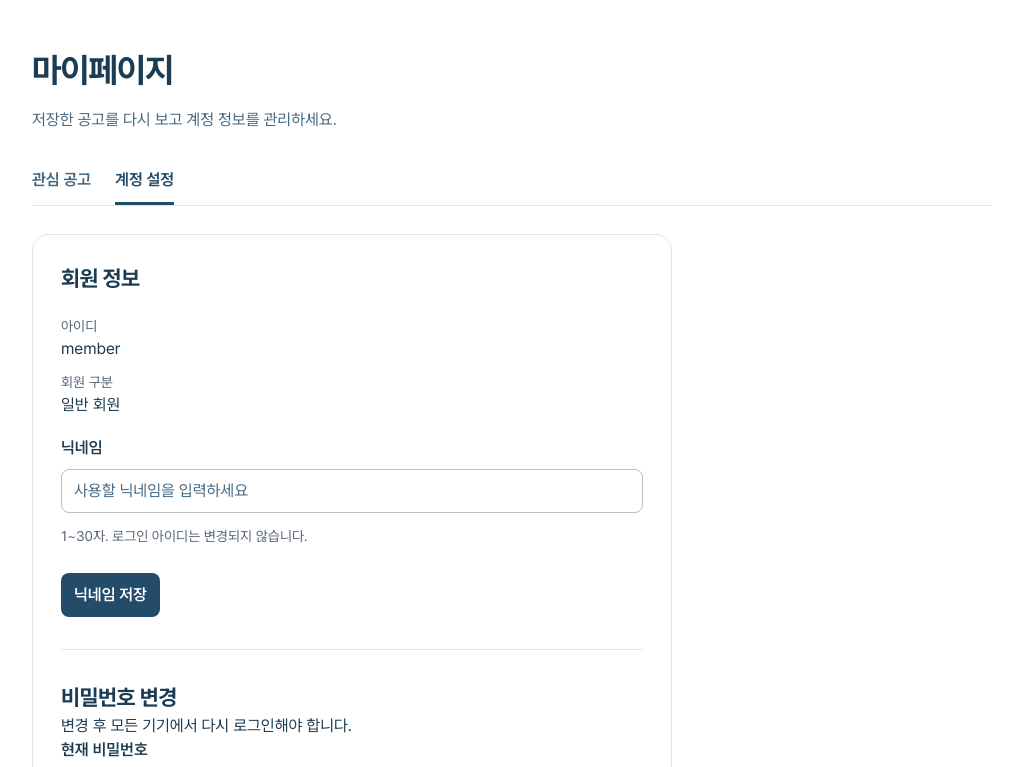
it: 닉네임 저장 실패 후 입력을 보존하고 같은 화면에서 재시도한다
The width and height of the screenshot is (1024, 767).
Type "남길 이름" into the field with id "nickname" at coordinates (352, 491), box [61, 469, 643, 513]
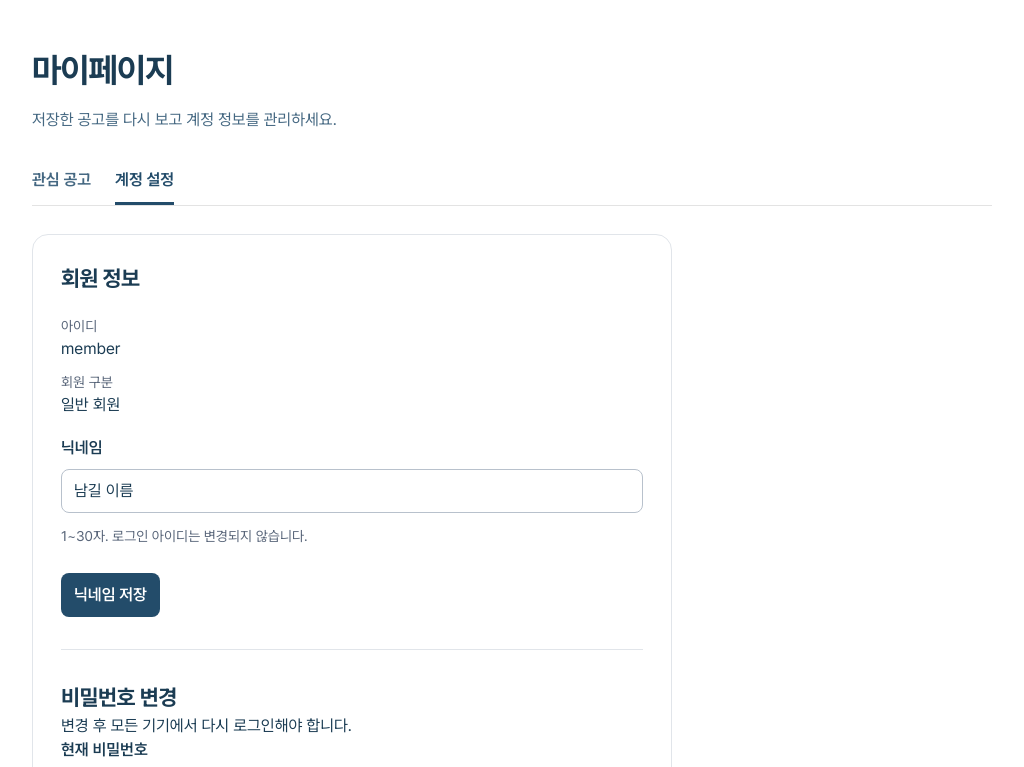
Submit the form with test id "nickname-form", box [61, 438, 643, 617]
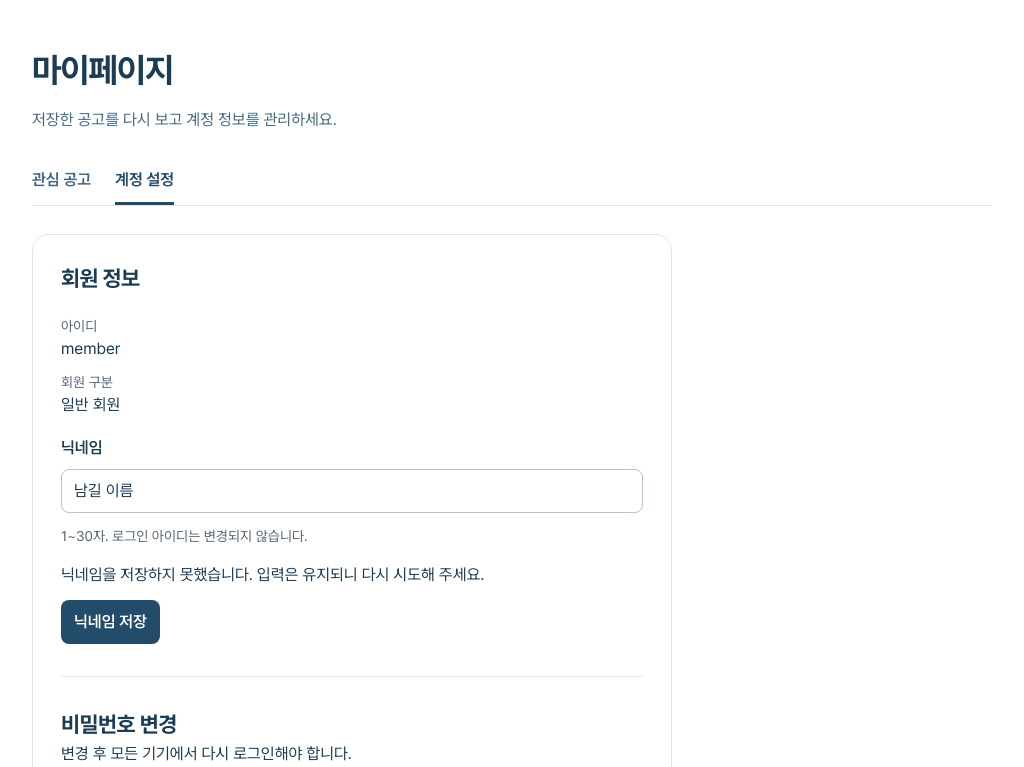
Result: the text "다시 시도" is shown at [61, 565, 484, 584]
Submit the form with test id "nickname-form", box [61, 438, 643, 644]
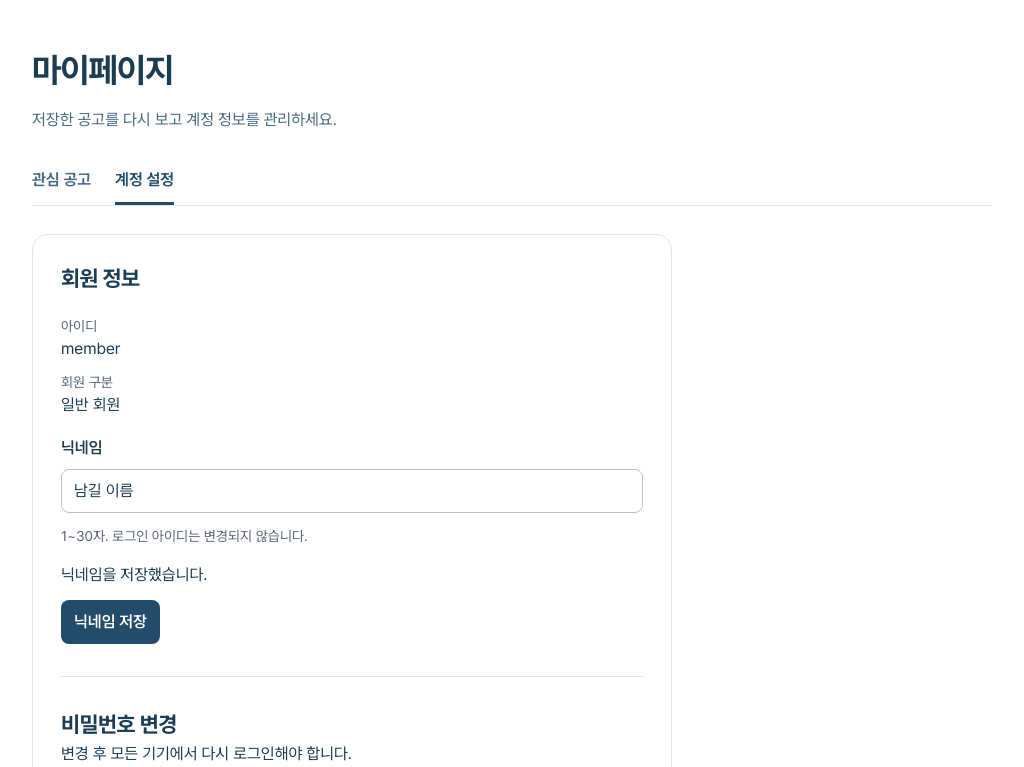
Result: the text "닉네임을 저장했습니다" is shown at [61, 565, 207, 584]
